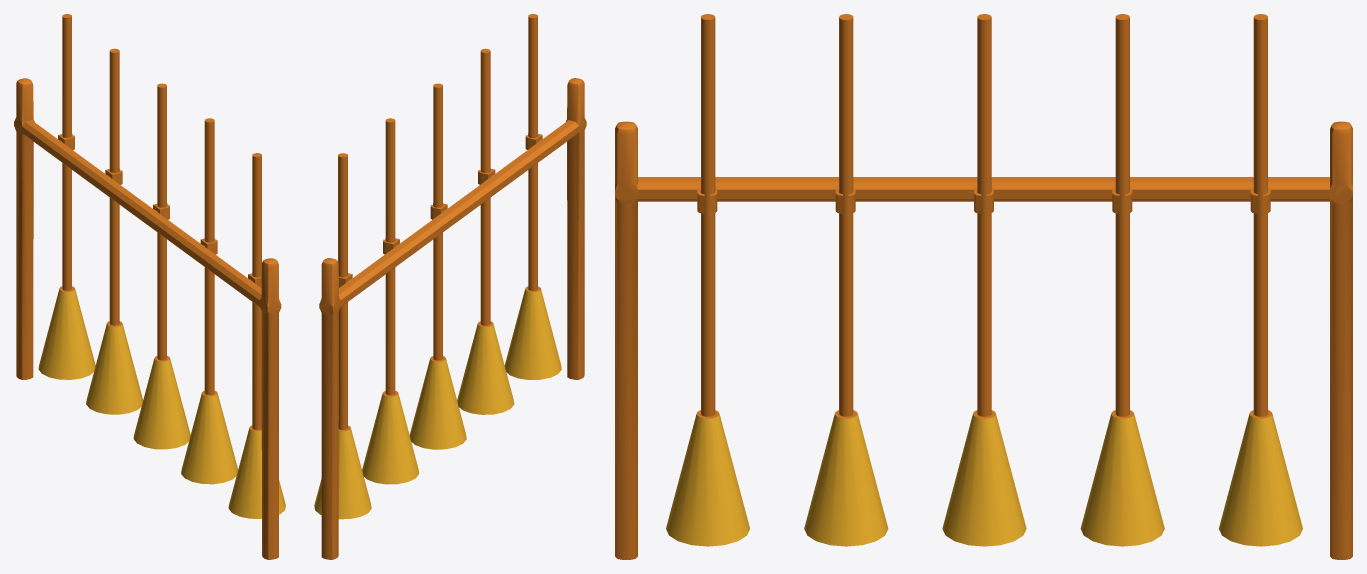
The model's file is BroomStand.fbx.
3 renders of one model, left to right at view 1: azimuth 30°, elevation 25°; view 2: azimuth 150°, elevation 25°; view 3: azimuth 270°, elevation 25°, orthographic. The views are drawn at different scales.
Visible parts, largest first — view 1: BroomStand; view 2: BroomStand; view 3: BroomStand.
Boxes of the visible parts, x1=… form: BroomStand: x1=14, y1=14, x2=285, y2=559; BroomStand: x1=314, y1=14, x2=586, y2=559; BroomStand: x1=615, y1=14, x2=1352, y2=559.
Bounding box in the file's own units: 16.34 × 117 × 143.
